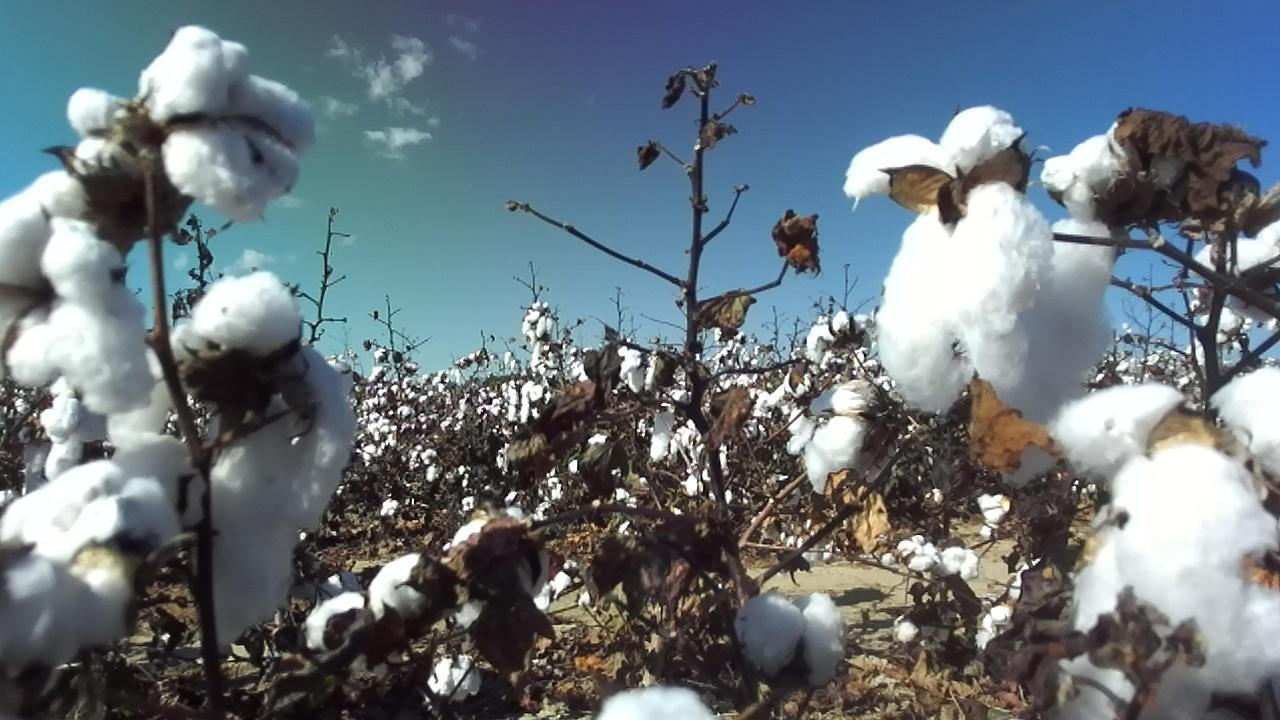cotton_ready: (842, 102, 1057, 491), (1054, 370, 1280, 720), (170, 270, 357, 648), (0, 170, 155, 415), (0, 460, 179, 660), (140, 24, 317, 224), (40, 342, 189, 481), (39, 434, 207, 532), (1046, 217, 1127, 420), (305, 553, 437, 660), (1042, 119, 1164, 227), (453, 517, 552, 632), (732, 595, 847, 689), (1185, 219, 1280, 324), (787, 382, 870, 494), (67, 84, 149, 186), (600, 685, 713, 720), (805, 309, 876, 364), (428, 655, 482, 702)
